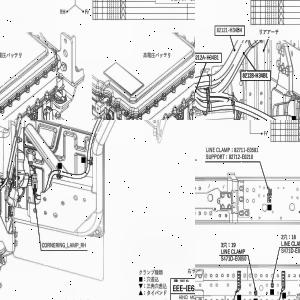PartNumber: (242, 72, 268, 79), (229, 153, 253, 160), (234, 146, 258, 153), (216, 27, 243, 33), (221, 256, 246, 262), (280, 247, 300, 254), (195, 54, 218, 60)
